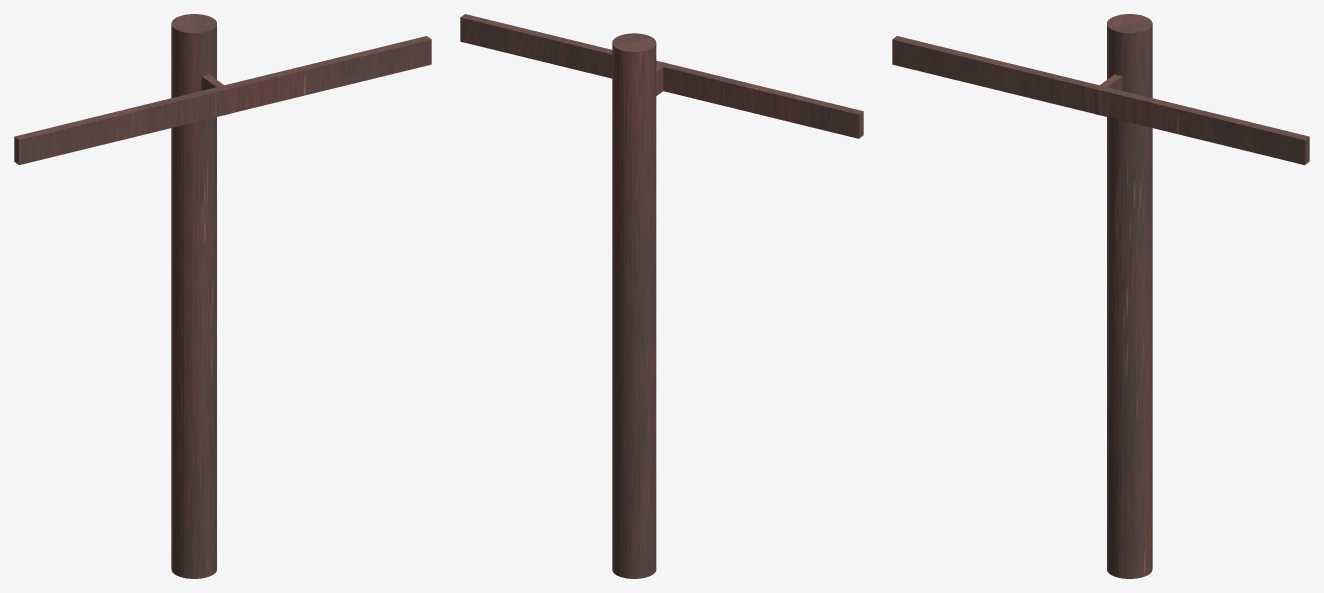
File: Caño metal.glb
3 renders of one model, left to right at view 1: azimuth 30°, elevation 25°; view 2: azimuth 150°, elevation 25°; view 3: azimuth 330°, elevation 25°, orthographic. The views are drawn at different scales.
Parts seen in each view (by area): view 1: Cylinder.002; view 2: Cylinder.002; view 3: Cylinder.002.
Part boxes in pixels (<box>): Cylinder.002: <box>14,14,431,578</box>; Cylinder.002: <box>460,14,863,578</box>; Cylinder.002: <box>892,14,1309,578</box>.
Size of the model in its own units: 12.56 by 15.87 by 2.26.
1 material, 1 textured.
